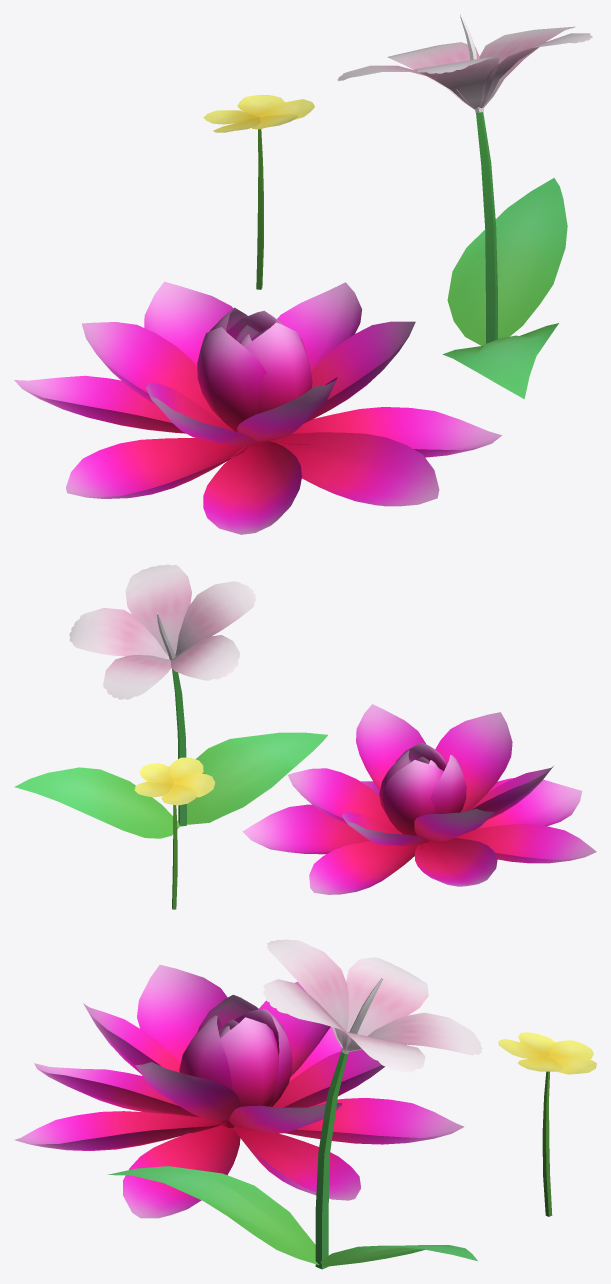
Rendered from env_flower_kit_export_02.fbx.
3 renders of one model, top to bottom at view 1: azimuth 30°, elevation 25°; view 2: azimuth 150°, elevation 25°; view 3: azimuth 270°, elevation 25°, orthographic. The views are drawn at different scales.
Visible parts, largest first — view 1: lotus1, pPlane24, flower2, pPlane25, butterflower1, stalk; view 2: lotus1, flower2, pPlane25, pPlane24, butterflower1, stalk; view 3: lotus1, flower2, pPlane25, butterflower1, stalk, pPlane24.
Part boxes in pixels (x1=…): lotus1: x1=14, y1=281, x2=501, y2=534; pPlane24: x1=447, y1=178, x2=567, y2=345; flower2: x1=337, y1=14, x2=592, y2=112; pPlane25: x1=442, y1=323, x2=558, y2=399; butterflower1: x1=203, y1=95, x2=314, y2=289; stalk: x1=476, y1=112, x2=497, y2=343; lotus1: x1=242, y1=704, x2=596, y2=894; flower2: x1=69, y1=564, x2=256, y2=699; pPlane25: x1=186, y1=732, x2=327, y2=824; pPlane24: x1=14, y1=767, x2=179, y2=838; butterflower1: x1=134, y1=757, x2=215, y2=909; stalk: x1=172, y1=669, x2=186, y2=826; lotus1: x1=14, y1=965, x2=464, y2=1218; flower2: x1=263, y1=939, x2=482, y2=1072; pPlane25: x1=107, y1=1166, x2=318, y2=1264; butterflower1: x1=498, y1=1032, x2=596, y2=1216; stalk: x1=315, y1=1052, x2=348, y2=1269; pPlane24: x1=320, y1=1245, x2=477, y2=1266.
Size of the model in its own units: 30.88 by 15.04 by 26.13.
Materials: 4 (4 with a texture image).
